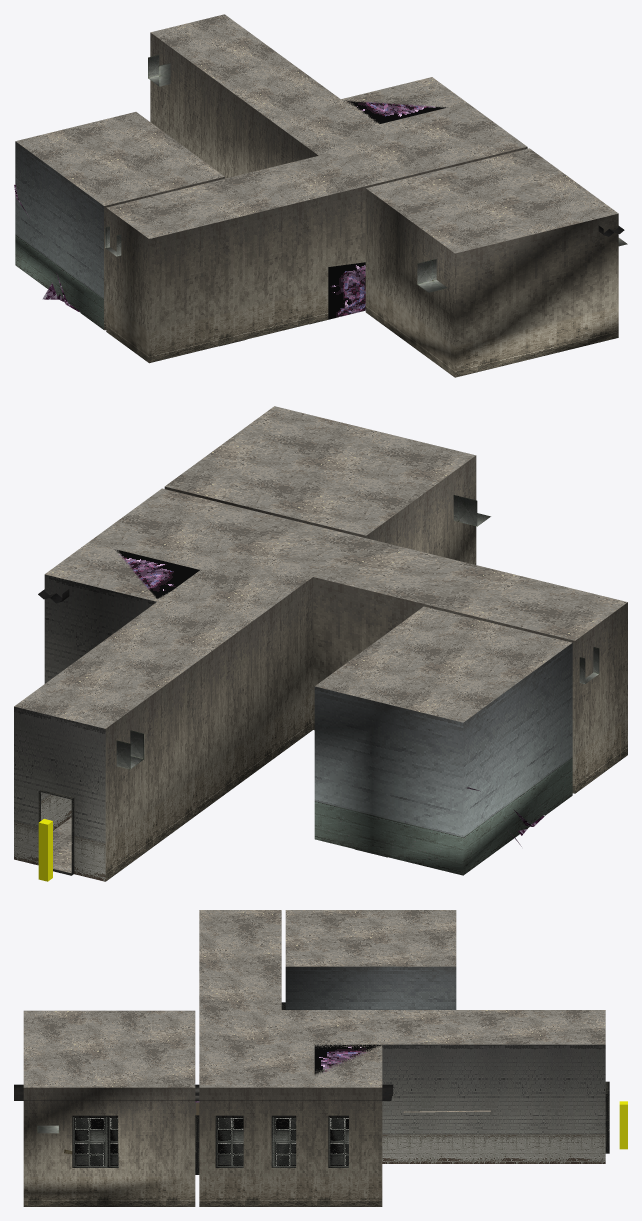
File: 1_door.gltf
The picture shows the model from 3 angles, top to bottom: view 1: azimuth 30°, elevation 25°; view 2: azimuth 150°, elevation 25°; view 3: azimuth 270°, elevation 25°; orthographic projection. The views are drawn at different scales.
Visible parts, largest first — view 1: Main Room Walls, Main Room Ceiling, Storage Room Walls, Storage Room Ceiling, Eldrich Room Walls, Eldrich Room Ceilling, zSide Hall Eldrich Wall, zEntrance Hall Eldrich Ceiling, Storage Room Vents; view 2: Main Room Walls, Main Room Ceiling, Eldrich Room Walls, Storage Room Ceiling, Eldrich Room Ceilling, Storage Room Walls, zEntrance Hall Eldrich Ceiling, Cube, Main Room Ground, Storage Room Vents, Main Room Vents Old; view 3: Main Room Walls, Main Room Ceiling, Storage Room Walls, Storage Room Ceiling, Eldrich Room Ceilling, Eldrich Room Walls, zMain Room Windows, zStorage Room Windows, zEntrance Hall Eldrich Ceiling, Main Room Pipes, Cube.
Boxes of the visible parts, <box> form: Main Room Walls: <box>106,32,527,363</box>; Main Room Ceiling: <box>106,14,526,238</box>; Storage Room Walls: <box>365,188,618,377</box>; Storage Room Ceiling: <box>366,148,618,253</box>; Eldrich Room Walls: <box>15,141,224,330</box>; Eldrich Room Ceilling: <box>15,112,224,205</box>; zSide Hall Eldrich Wall: <box>328,262,365,319</box>; zEntrance Hall Eldrich Ceiling: <box>344,100,447,123</box>; Storage Room Vents: <box>417,238,627,292</box>; Main Room Walls: <box>14,574,627,881</box>; Main Room Ceiling: <box>14,488,627,728</box>; Eldrich Room Walls: <box>314,643,572,875</box>; Storage Room Ceiling: <box>165,406,475,535</box>; Eldrich Room Ceilling: <box>315,606,571,722</box>; Storage Room Walls: <box>164,455,476,564</box>; zEntrance Hall Eldrich Ceiling: <box>114,549,199,598</box>; Cube: <box>38,819,52,881</box>; Main Room Ground: <box>53,817,71,873</box>; Storage Room Vents: <box>453,495,490,526</box>; Main Room Vents Old: <box>116,647,599,769</box>; Main Room Walls: <box>199,1044,605,1206</box>; Main Room Ceiling: <box>199,910,605,1087</box>; Storage Room Walls: <box>23,1087,195,1206</box>; Storage Room Ceiling: <box>23,1010,195,1087</box>; Eldrich Room Ceilling: <box>285,910,456,966</box>; Eldrich Room Walls: <box>285,966,456,1009</box>; zMain Room Windows: <box>215,1115,348,1167</box>; zStorage Room Windows: <box>72,1115,118,1167</box>; zEntrance Hall Eldrich Ceiling: <box>314,1044,381,1076</box>; Main Room Pipes: <box>14,1084,392,1100</box>; Cube: <box>619,1101,627,1149</box>.
Size of the model in its own units: 110 by 33.17 by 150.
32 materials, 31 textured.
